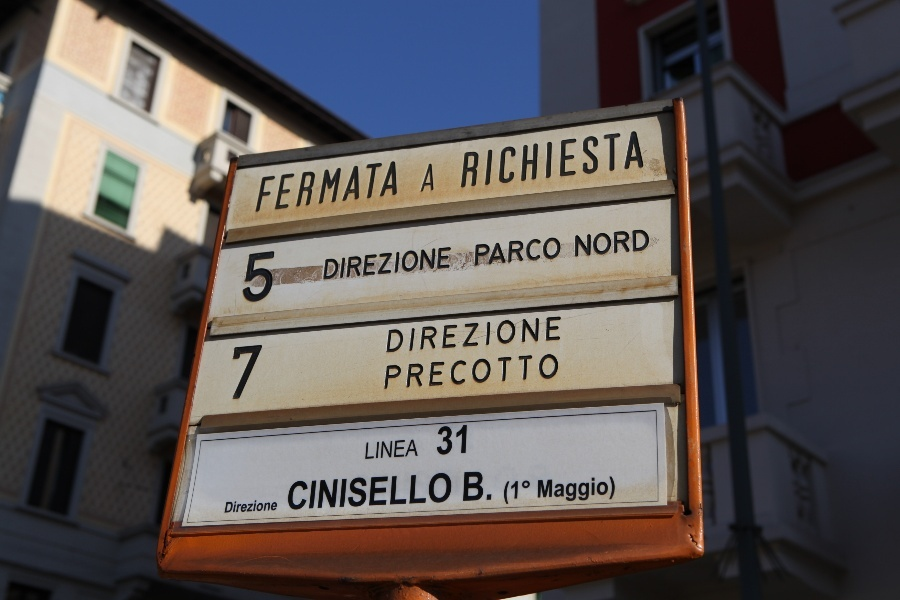text: (465, 131, 480, 189), (481, 131, 496, 189), (497, 131, 512, 189), (513, 131, 528, 189), (529, 131, 544, 189), (545, 131, 560, 189), (561, 131, 576, 189), (577, 131, 592, 189), (593, 131, 608, 189), (609, 131, 624, 189), (625, 131, 640, 189), (241, 345, 256, 400), (257, 251, 272, 304), (273, 161, 288, 213), (289, 161, 304, 213), (305, 161, 320, 213), (321, 161, 336, 213), (337, 161, 352, 213), (353, 161, 368, 213), (369, 161, 384, 213), (385, 161, 397, 213), (545, 316, 561, 353), (289, 472, 304, 511), (305, 472, 320, 511), (321, 472, 336, 511), (337, 472, 352, 511), (353, 472, 368, 511), (369, 472, 384, 511), (385, 472, 400, 511), (401, 472, 416, 511), (417, 472, 432, 511), (433, 472, 448, 511), (401, 316, 416, 353), (417, 316, 432, 353), (433, 316, 448, 353), (449, 316, 464, 353), (465, 316, 480, 353), (481, 316, 496, 353), (497, 316, 512, 353), (513, 316, 528, 353), (529, 316, 544, 353), (401, 354, 416, 389), (417, 354, 432, 389), (433, 354, 448, 389), (449, 354, 464, 389), (465, 354, 480, 389), (481, 354, 496, 389), (497, 354, 512, 389), (513, 354, 528, 389), (529, 354, 544, 389), (337, 247, 352, 280), (353, 247, 368, 280), (369, 247, 384, 280), (385, 247, 400, 280), (401, 247, 416, 280), (417, 247, 432, 280), (433, 247, 448, 280), (545, 354, 559, 389), (263, 161, 272, 213), (449, 425, 464, 456), (387, 354, 400, 389), (481, 237, 496, 267), (497, 237, 512, 267), (513, 237, 528, 267), (529, 237, 544, 267), (545, 237, 560, 267), (465, 472, 480, 502), (577, 229, 592, 258), (593, 229, 608, 258), (609, 229, 624, 258), (625, 229, 640, 258), (389, 316, 400, 353), (545, 477, 560, 503), (561, 477, 576, 503), (577, 477, 592, 503), (593, 477, 608, 503), (249, 251, 256, 304), (325, 247, 336, 280), (513, 481, 528, 505), (234, 345, 240, 400), (257, 345, 263, 400), (481, 472, 492, 502), (438, 425, 448, 456), (369, 440, 384, 460), (385, 440, 400, 460), (401, 440, 416, 460), (641, 229, 650, 258), (241, 499, 256, 514), (257, 499, 272, 514), (226, 499, 240, 514), (504, 481, 512, 505), (641, 131, 644, 189), (538, 477, 544, 503), (609, 477, 615, 503), (476, 237, 480, 267), (449, 472, 452, 511), (465, 425, 468, 456), (429, 164, 432, 192), (273, 499, 278, 514), (449, 247, 451, 280), (273, 251, 274, 304), (529, 481, 531, 505), (366, 440, 368, 460), (561, 237, 562, 267), (575, 229, 576, 258), (433, 164, 434, 192), (417, 440, 418, 460)
